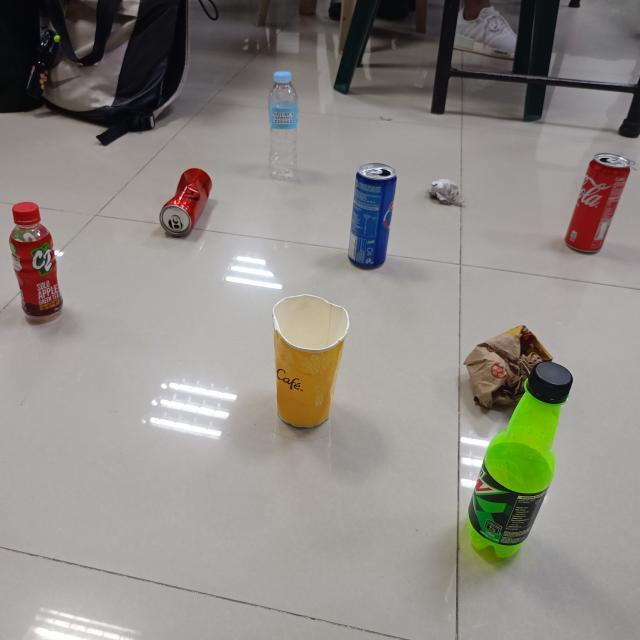recyclable waste: (459, 355, 576, 565), (264, 288, 354, 436), (459, 320, 559, 416), (558, 146, 636, 260), (6, 198, 66, 326), (343, 154, 401, 274), (154, 161, 217, 241), (264, 65, 304, 184), (422, 174, 468, 211)
